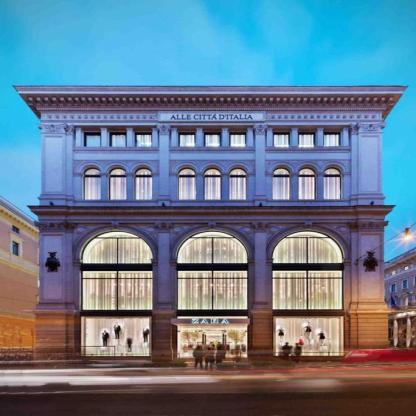Building Outline: (12, 85, 408, 360)
Cornice: (26, 205, 396, 217)
Deco: (159, 113, 263, 120)
Facade: (12, 85, 409, 362)
Floor Slab: (42, 153, 382, 160), (36, 310, 388, 316), (40, 264, 383, 270)
Glass Wall: (272, 231, 343, 309), (83, 231, 153, 310), (177, 231, 247, 310), (177, 326, 246, 359), (323, 169, 340, 199), (229, 169, 246, 199), (204, 169, 221, 199), (272, 169, 289, 199), (298, 169, 315, 199), (136, 169, 152, 199), (85, 169, 101, 199), (110, 169, 126, 199), (179, 169, 195, 199)
Molding: (30, 97, 393, 107), (37, 107, 386, 112), (41, 113, 157, 120), (266, 114, 382, 120)
Pillar: (247, 223, 272, 361), (152, 224, 173, 361), (253, 124, 268, 206), (156, 124, 170, 206)
Shop: (273, 316, 344, 355), (81, 317, 151, 356), (192, 319, 229, 324)
Window: (177, 316, 248, 319), (324, 135, 339, 147), (137, 135, 152, 147), (179, 135, 194, 147), (206, 135, 221, 147), (230, 135, 245, 147), (275, 135, 290, 147), (299, 135, 314, 147), (87, 135, 101, 147), (112, 135, 126, 147)
